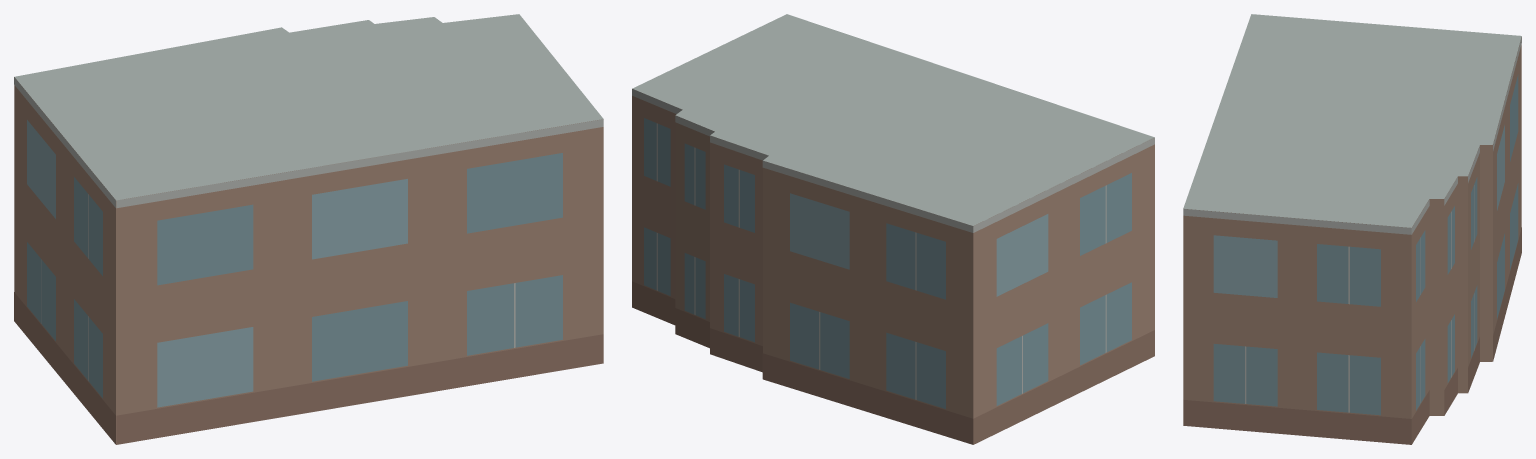
File: survey-upis-32630235.glb
The picture shows the model from 3 angles, left to right: view 1: azimuth 30°, elevation 25°; view 2: azimuth 150°, elevation 25°; view 3: azimuth 270°, elevation 25°; orthographic projection. The views are drawn at different scales.
Visible parts, largest first — view 1: survey-upis-32630235.tmp; view 2: survey-upis-32630235.tmp; view 3: survey-upis-32630235.tmp.
Part boxes in pixels (<box>): survey-upis-32630235.tmp: <box>14,14,603,444</box>; survey-upis-32630235.tmp: <box>632,14,1154,444</box>; survey-upis-32630235.tmp: <box>1183,14,1521,444</box>.
Bounding box in the file's own units: 16.07 × 7.6 × 10.76.
